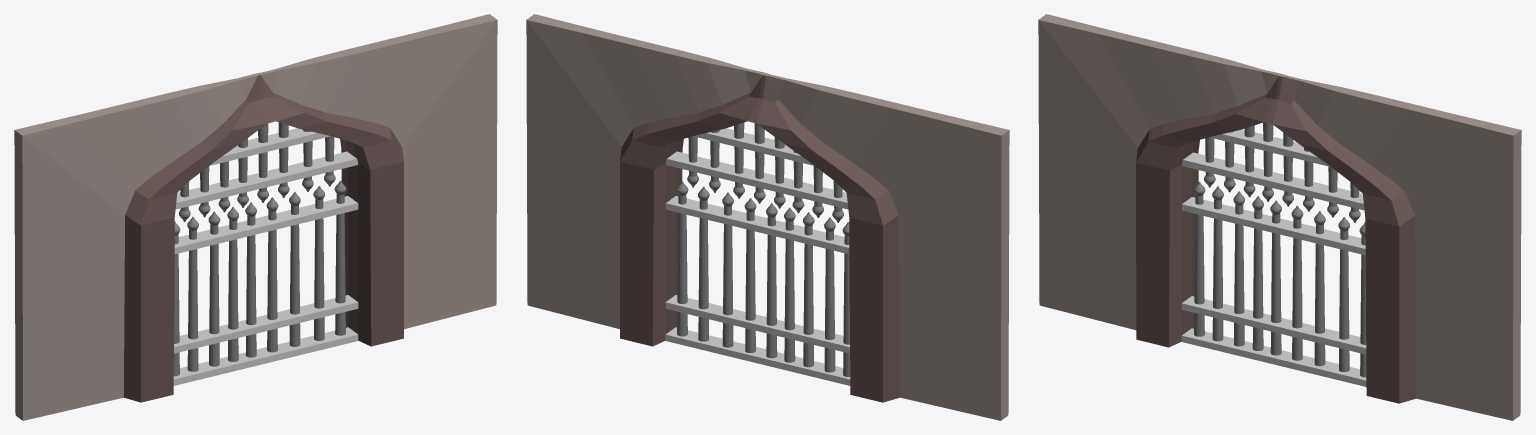
Rendered from PortalCastelo.fbx.
3 views of the same model, side by side, from view 1: azimuth 30°, elevation 25°; view 2: azimuth 150°, elevation 25°; view 3: azimuth 330°, elevation 25° (orthographic).
Parts seen in each view (by area): view 1: Portão de aço; view 2: Portão de aço; view 3: Portão de aço.
Boxes of the visible parts, left/top/right/bottom form: Portão de aço: left=14, top=14, right=497, bottom=420; Portão de aço: left=526, top=14, right=1009, bottom=420; Portão de aço: left=1038, top=14, right=1521, bottom=420.
Bounding box in the file's own units: 721 × 415 × 75.71.
